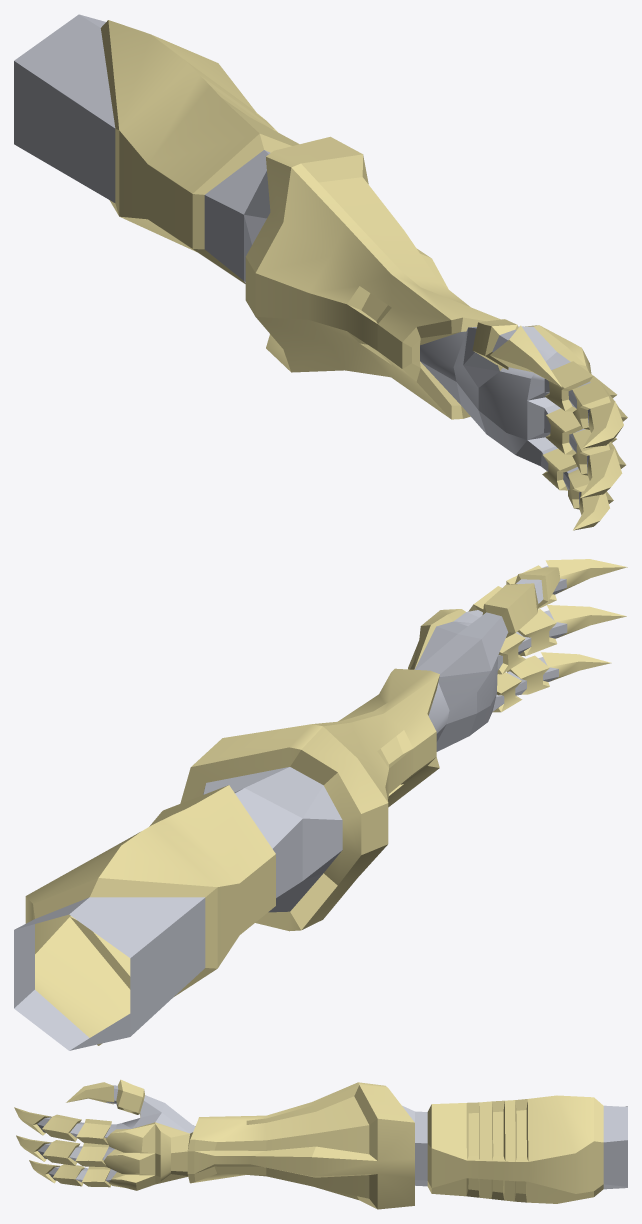
The model's file is ArmSegments.fbx.
The picture shows the model from 3 angles, top to bottom: view 1: azimuth 30°, elevation 25°; view 2: azimuth 150°, elevation 25°; view 3: azimuth 270°, elevation 25°; orthographic projection. The views are drawn at different scales.
Visible parts, largest first — view 1: Upperarm, Forearm, Hand; view 2: Upperarm, Forearm, Hand; view 3: Upperarm, Forearm, Hand.
Boxes of the visible parts, x1,y1,x2,y2 form: Upperarm: [14, 14, 299, 283]; Forearm: [244, 136, 500, 419]; Hand: [453, 319, 627, 530]; Upperarm: [14, 785, 302, 1050]; Forearm: [180, 668, 449, 931]; Hand: [408, 559, 627, 751]; Upperarm: [415, 1095, 627, 1203]; Forearm: [187, 1082, 414, 1209]; Hand: [14, 1079, 192, 1190].
Bounding box in the file's own units: 18.65 × 21.14 × 102.
